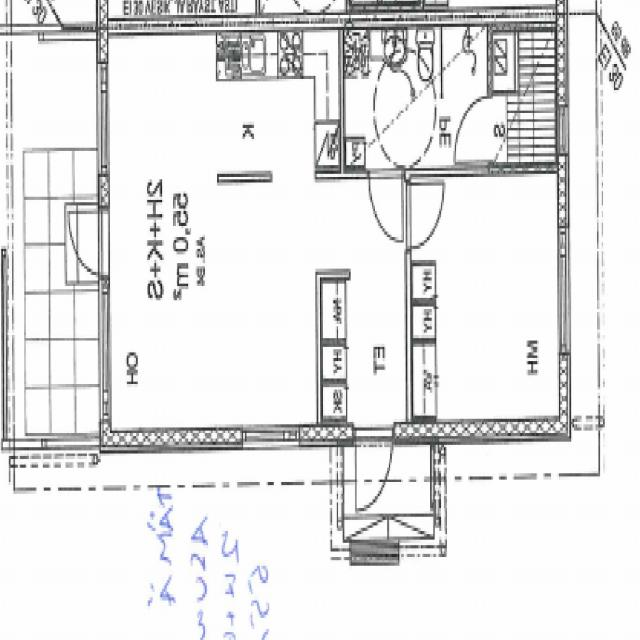door: (354, 422, 392, 514), (62, 210, 108, 277), (452, 98, 492, 164), (406, 182, 445, 247), (369, 169, 402, 239)
